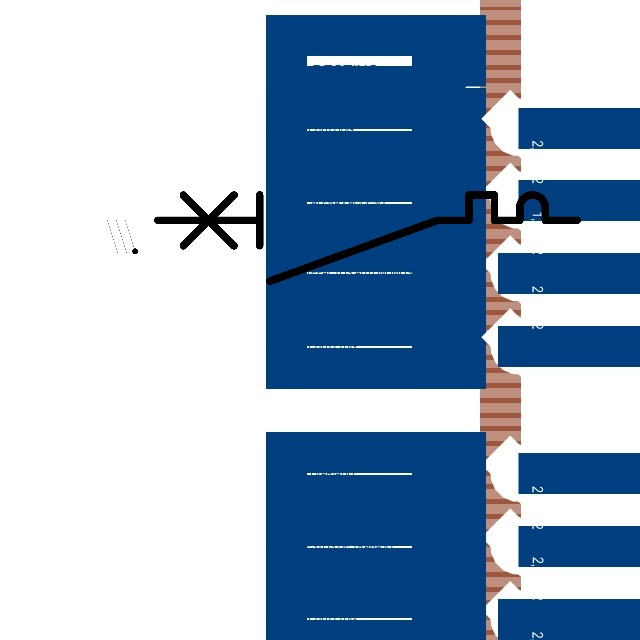interruptor_termomagnetico: (146, 184, 587, 292)
